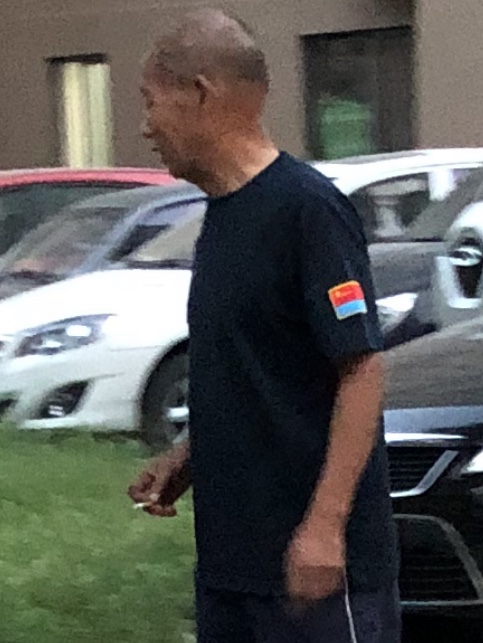smoke: (132, 500, 155, 511)
